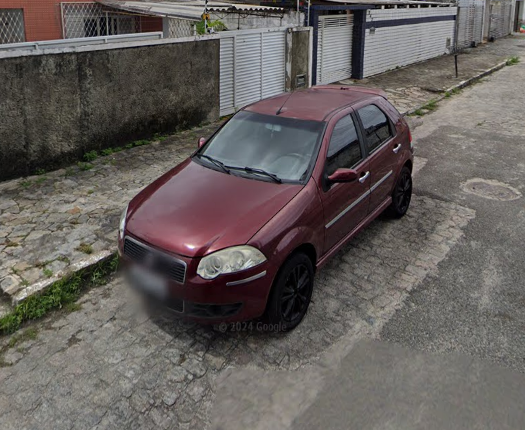car: (115, 81, 416, 336)
